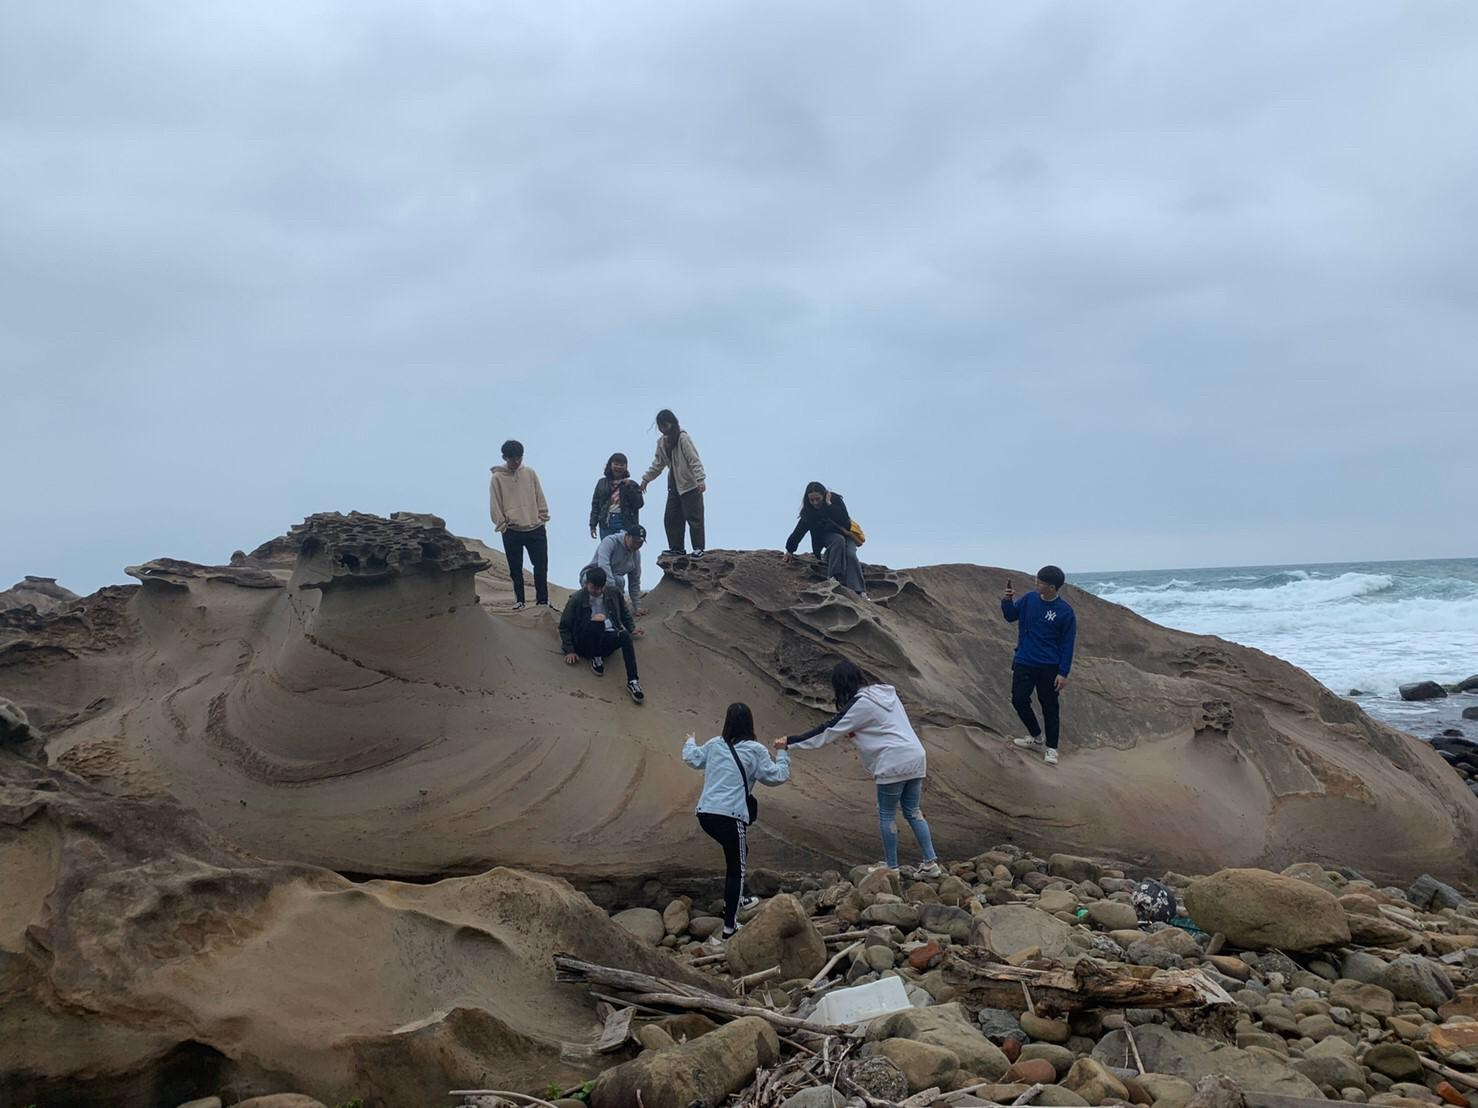people: (817, 663, 952, 877), (700, 700, 765, 934), (1011, 557, 1073, 757), (486, 438, 552, 609), (652, 405, 715, 559), (788, 482, 867, 596), (571, 571, 646, 690), (590, 450, 650, 575), (590, 523, 648, 600)
